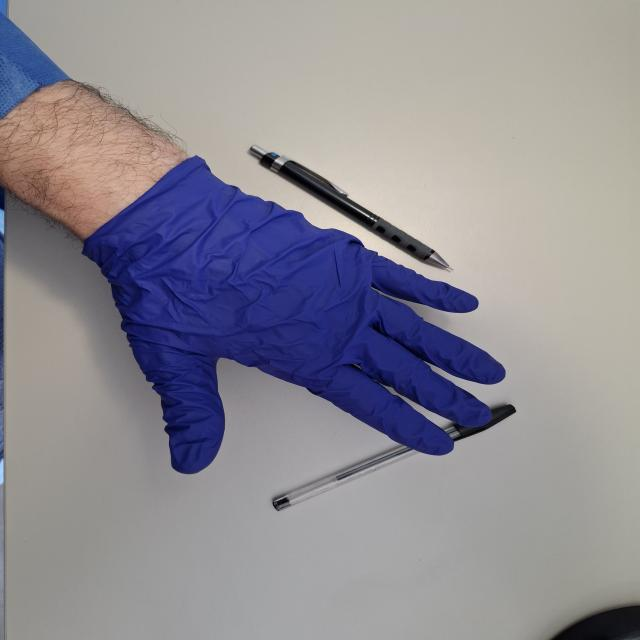glove_on: (78, 152, 514, 476)
